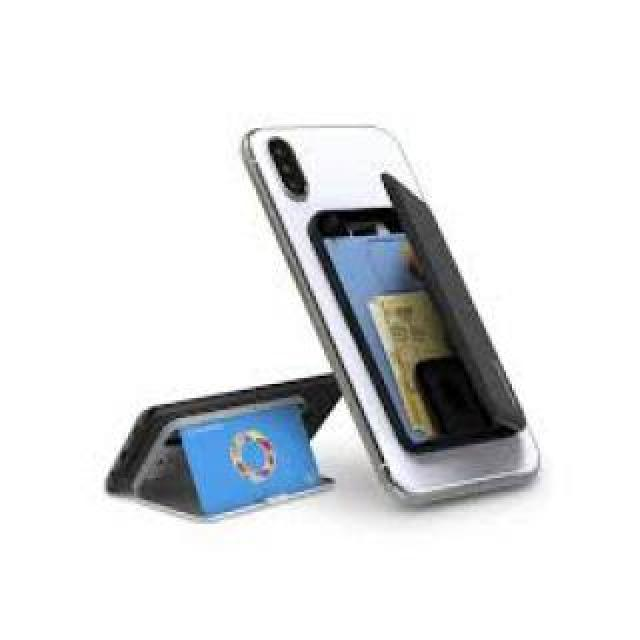smart phone: (247, 83, 575, 557)
